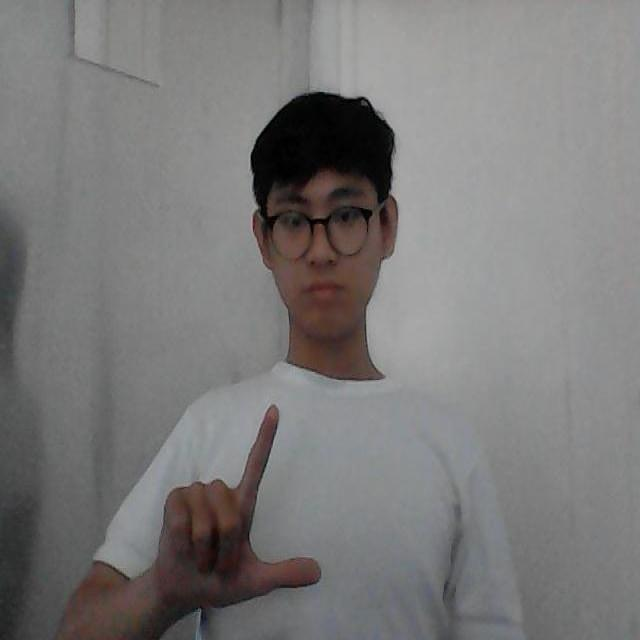L: (145, 365, 337, 638)
